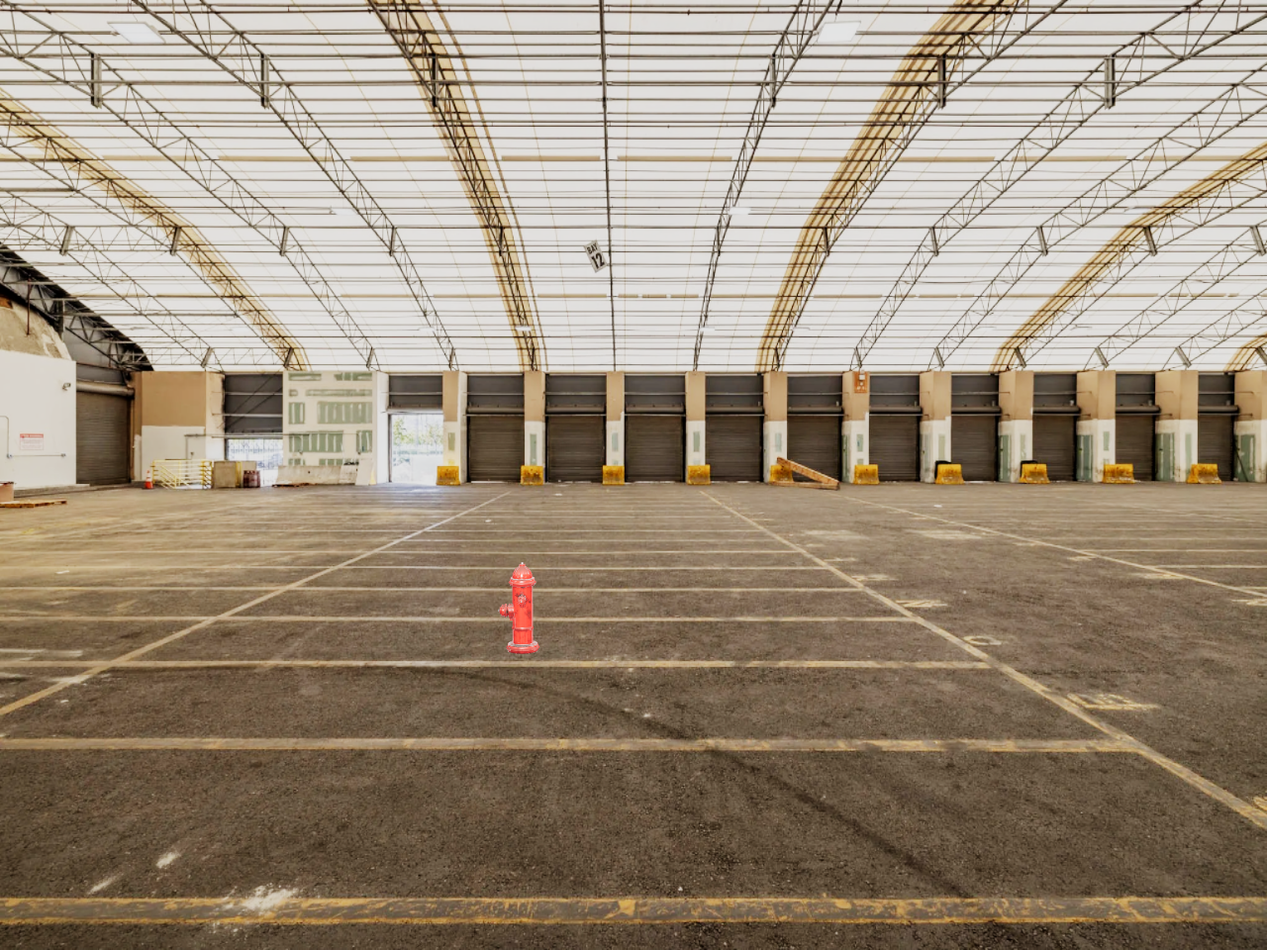ShirAtashNeshani: (498, 562, 540, 654)
